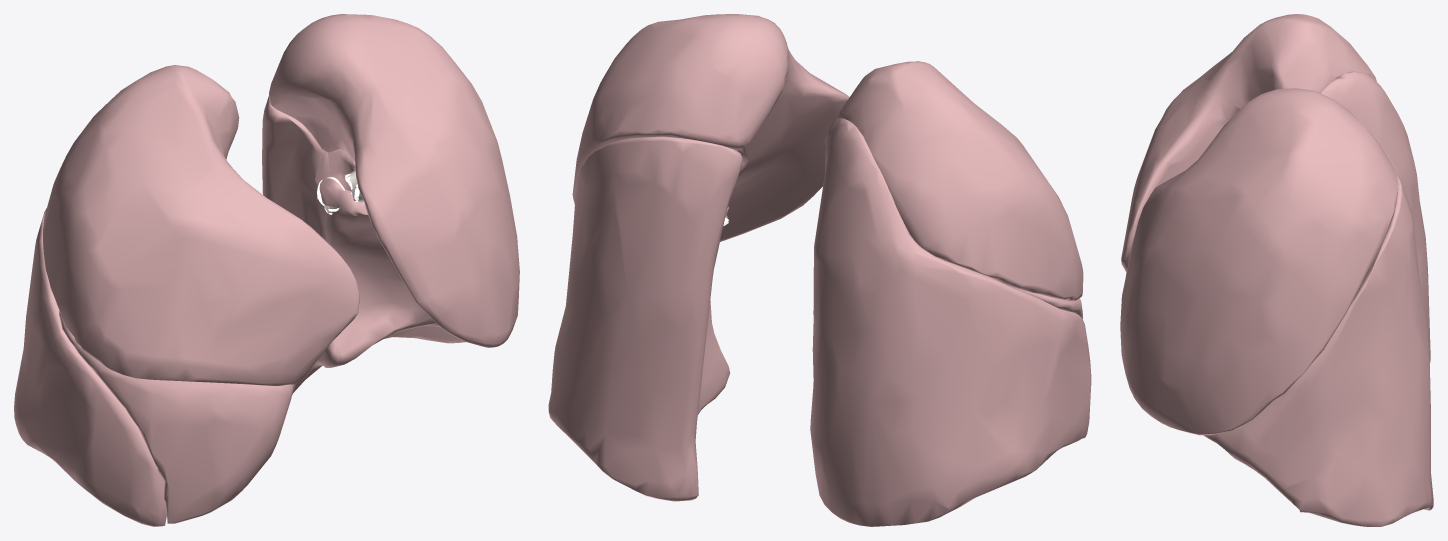
File: lungs.glb
3 views of the same model, side by side, from view 1: azimuth 30°, elevation 25°; view 2: azimuth 150°, elevation 25°; view 3: azimuth 270°, elevation 25° (orthographic). The views are drawn at different scales.
Parts seen in each view (by area): view 1: VH_F_right_anterior_bronchopulmonary_segm, VH_F_hilum_upper_L, VH_F_right_medial_basal_bronchopulmonary_segment, VH_F_right_medial_bronchopulmonary_segment, VH_F_left_superior_bronchopulmonary_segment, VH_F_hilum_L; view 2: VH_F_right_medial_basal_bronchopulmonary_segment, VH_F_left_superior_bronchopulmonary_segment, VH_F_hilum_upper_L, VH_F_right_anterior_bronchopulmonary_segm; view 3: VH_F_hilum_upper_L, VH_F_left_superior_bronchopulmonary_segment, VH_F_right_anterior_bronchopulmonary_segm, VH_F_right_medial_basal_bronchopulmonary_segment.
Part boxes in pixels (box(x1,y1,x2,y2)): VH_F_right_anterior_bronchopulmonary_segm: box(43, 65, 359, 385); VH_F_hilum_upper_L: box(269, 14, 519, 347); VH_F_right_medial_basal_bronchopulmonary_segment: box(14, 208, 166, 526); VH_F_right_medial_bronchopulmonary_segment: box(59, 311, 293, 523); VH_F_left_superior_bronchopulmonary_segment: box(262, 96, 465, 394); VH_F_hilum_L: box(315, 145, 366, 218); VH_F_right_medial_basal_bronchopulmonary_segment: box(810, 118, 1091, 526); VH_F_left_superior_bronchopulmonary_segment: box(548, 136, 742, 501); VH_F_hilum_upper_L: box(572, 14, 849, 241); VH_F_right_anterior_bronchopulmonary_segm: box(837, 61, 1083, 301); VH_F_hilum_upper_L: box(1120, 88, 1398, 435); VH_F_left_superior_bronchopulmonary_segment: box(1203, 173, 1433, 526); VH_F_right_anterior_bronchopulmonary_segm: box(1121, 14, 1376, 272); VH_F_right_medial_basal_bronchopulmonary_segment: box(1320, 71, 1430, 363).
Bounding box in the file's own units: 0.2509 × 0.223 × 0.1526.
